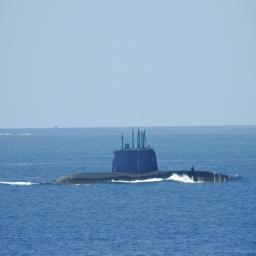submarine: (52, 145, 238, 185)
